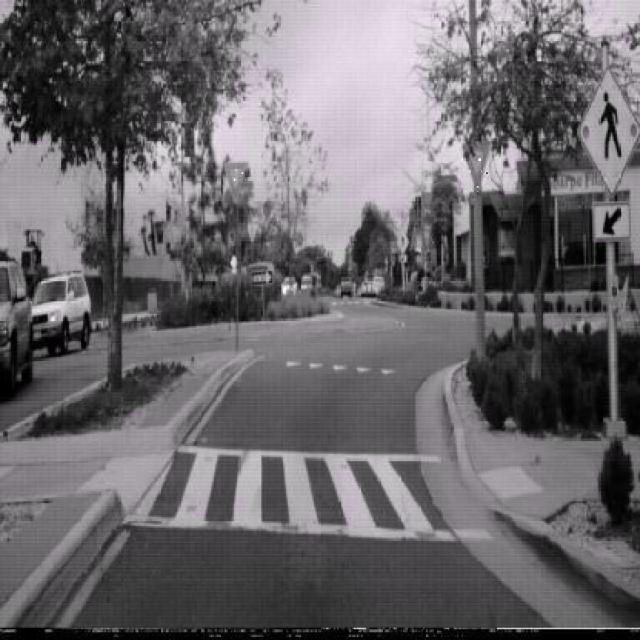pedestrianCrossing: (396, 228, 410, 255)
yield: (462, 137, 491, 190), (225, 160, 249, 205)
